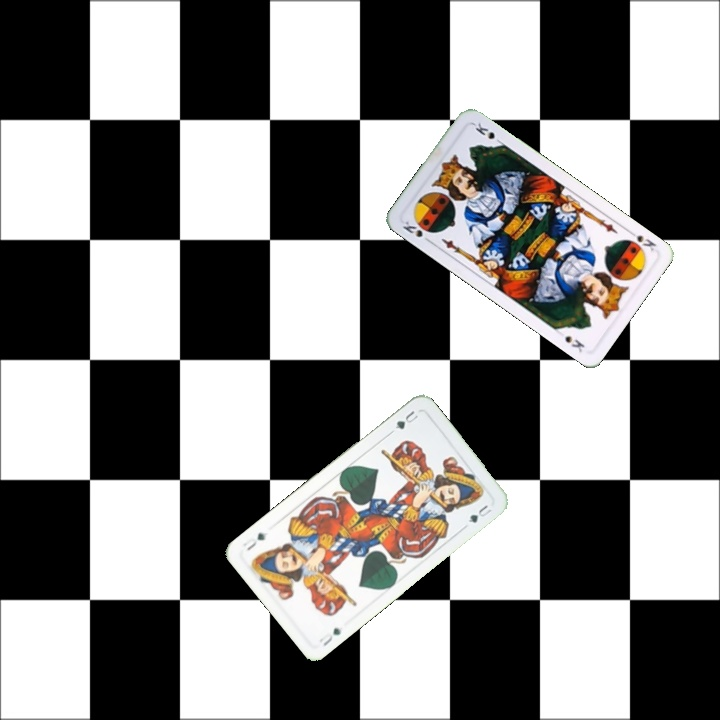GU: (391, 406, 421, 432), (315, 624, 344, 649)
SK: (398, 217, 434, 246), (624, 226, 659, 254)
